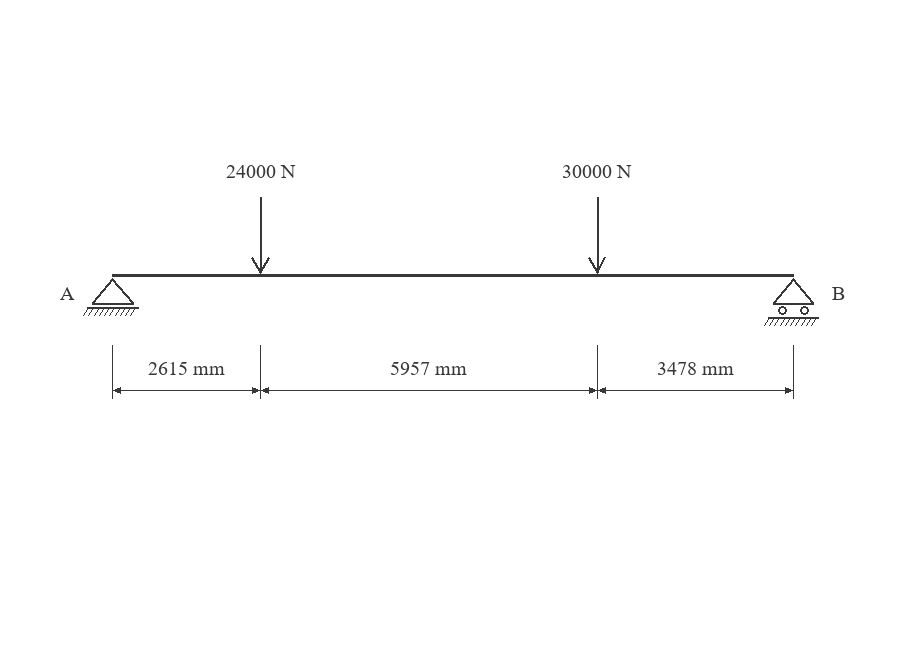pin_support: (83, 278, 139, 316)
point_load: (251, 197, 270, 274), (588, 197, 606, 274)
roller_support: (764, 278, 819, 326)
